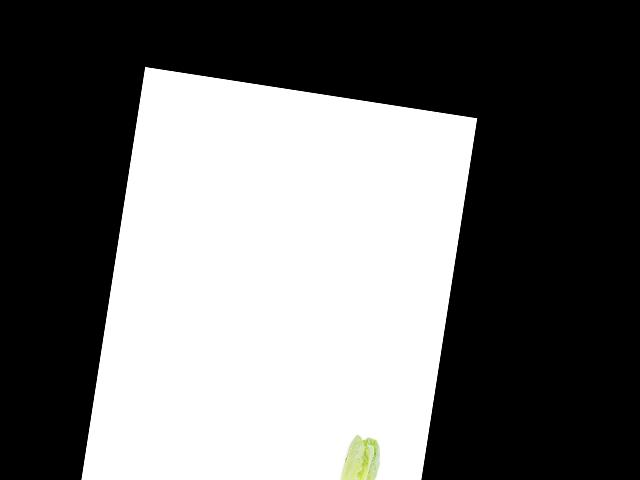lettuce: (331, 431, 383, 480)
